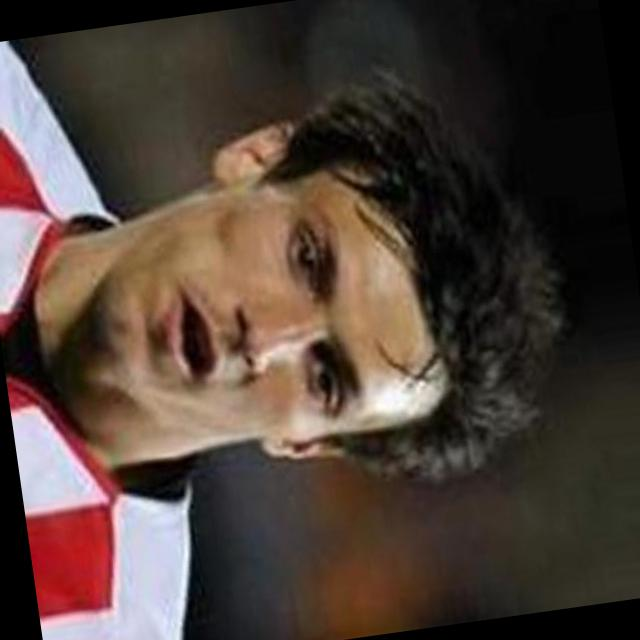bareface: (99, 154, 521, 467)
